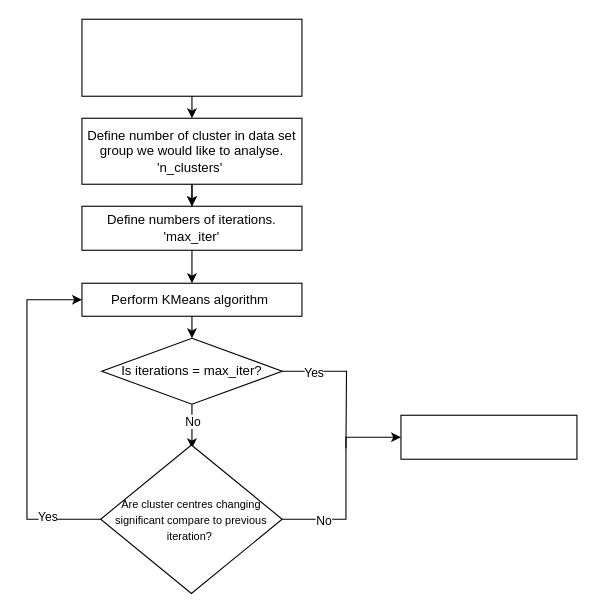
This 596x613 diagram has some shape labels left out. The shapes that lost their labels are listed below. From the top down, each one's centre as x and y in pixels, then its label:
At pixel 191 57: "Create 2D array which should have (x,y) coordinates of group we need to cluster.".
At pixel 488 436: "Obtaining output as correctly clustered groups.".
